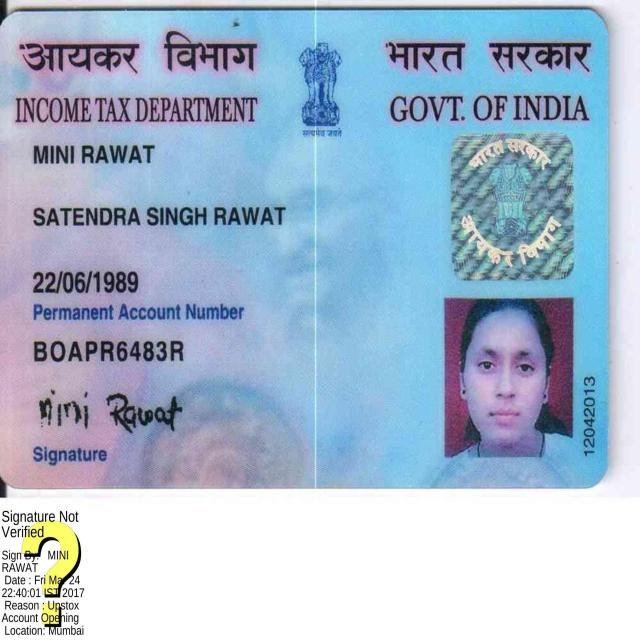pan_card: (7, 22, 603, 482)
